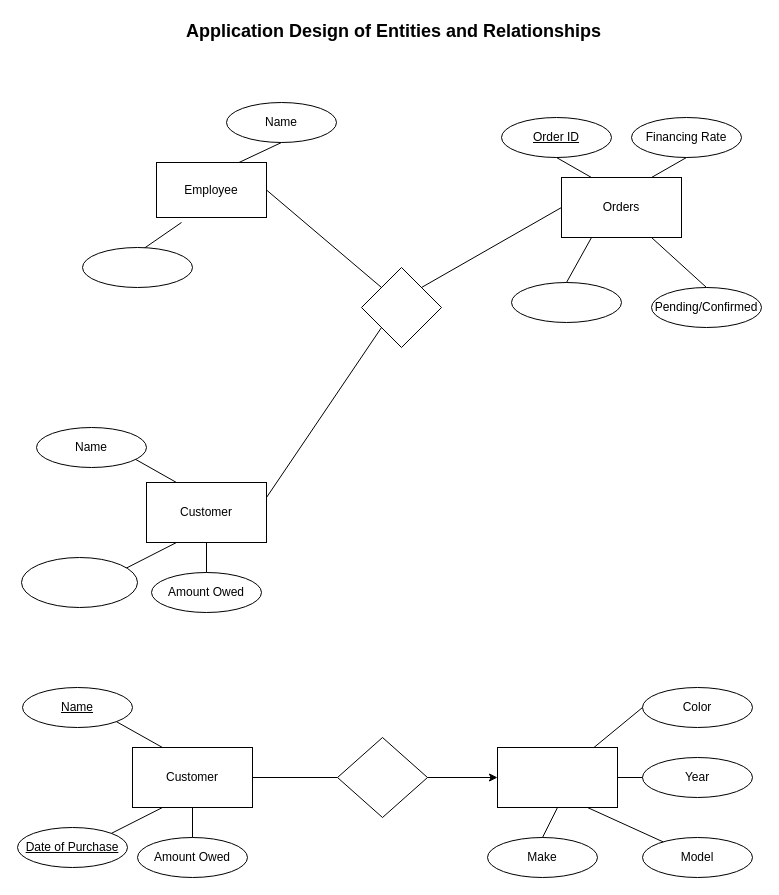
The diagram is 779 pixels wide and 895 high, and some of its shapes have lost their labels. The shapes that lost their labels are listed below. From the top down, each one's centre as x and y in pixels, then its label:
At (137,267): "Employee ID".
At (401,307): "Sale".
At (566,302): "Cost".
At (79,582): "Date of Purchase (DOP)".
At (382,777): "Owns".
At (557,777): "Car".
